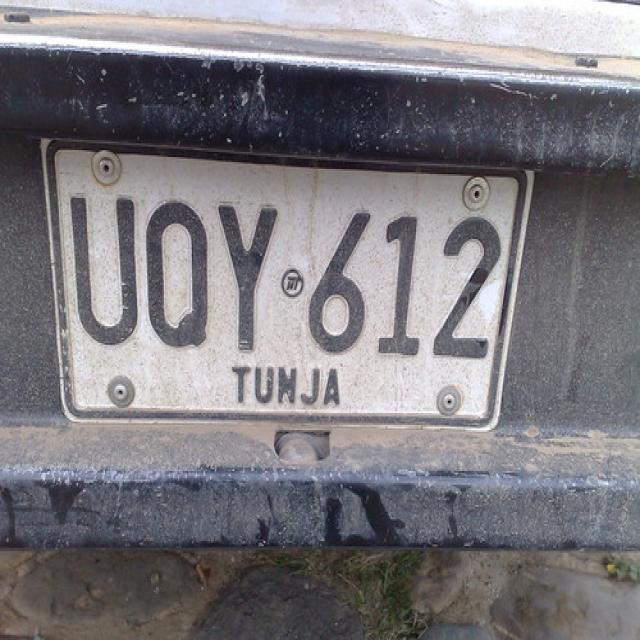placas: (58, 176, 523, 371)
